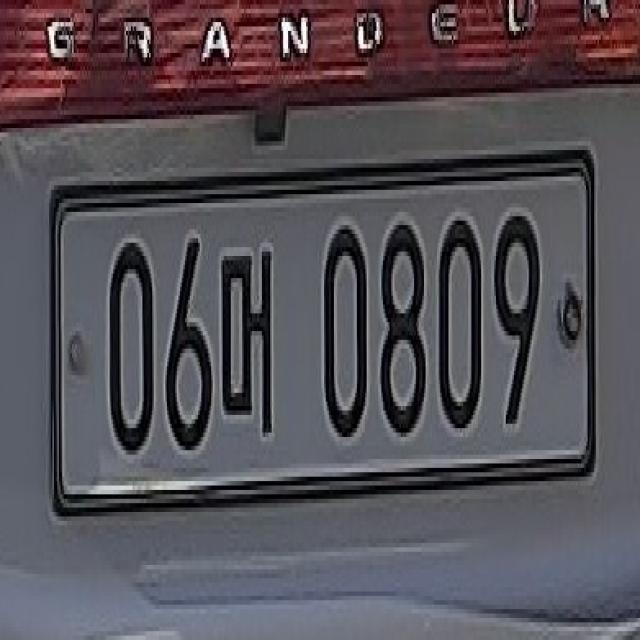plat: (47, 147, 596, 512)
